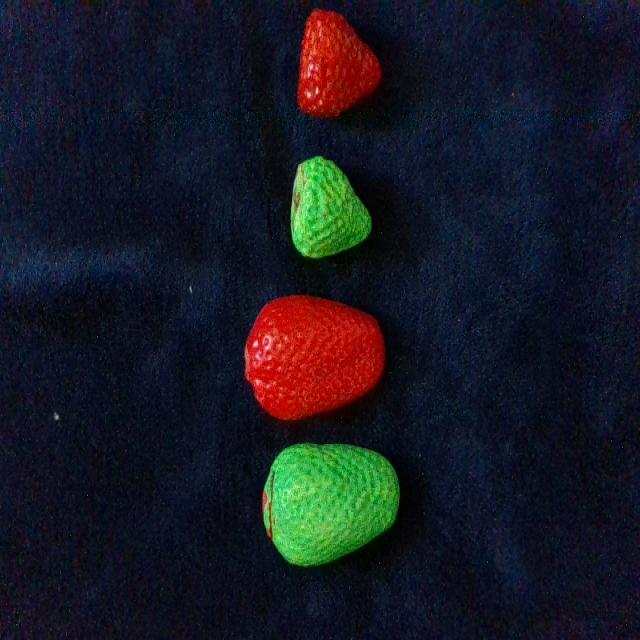chica_roja: (298, 9, 381, 117)
grande_roja: (245, 295, 385, 420)
verde: (262, 444, 399, 565), (291, 156, 371, 257)
